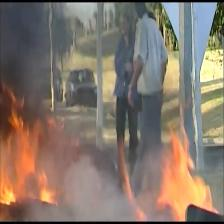fire: (0, 85, 59, 206), (157, 123, 220, 221)
